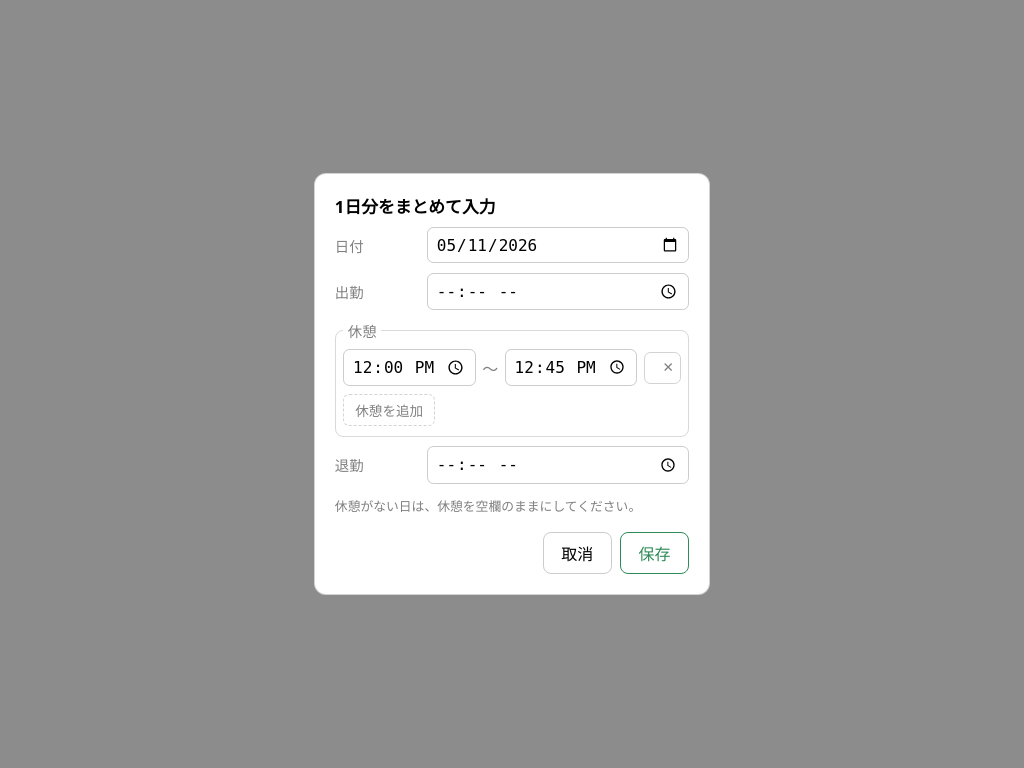
Test: DayEntryDialog › 最後の行を削除しても空の 1 行が残る
Click the button with class "remove-break": point(662, 368) x1=644 y1=352 x2=681 y2=384
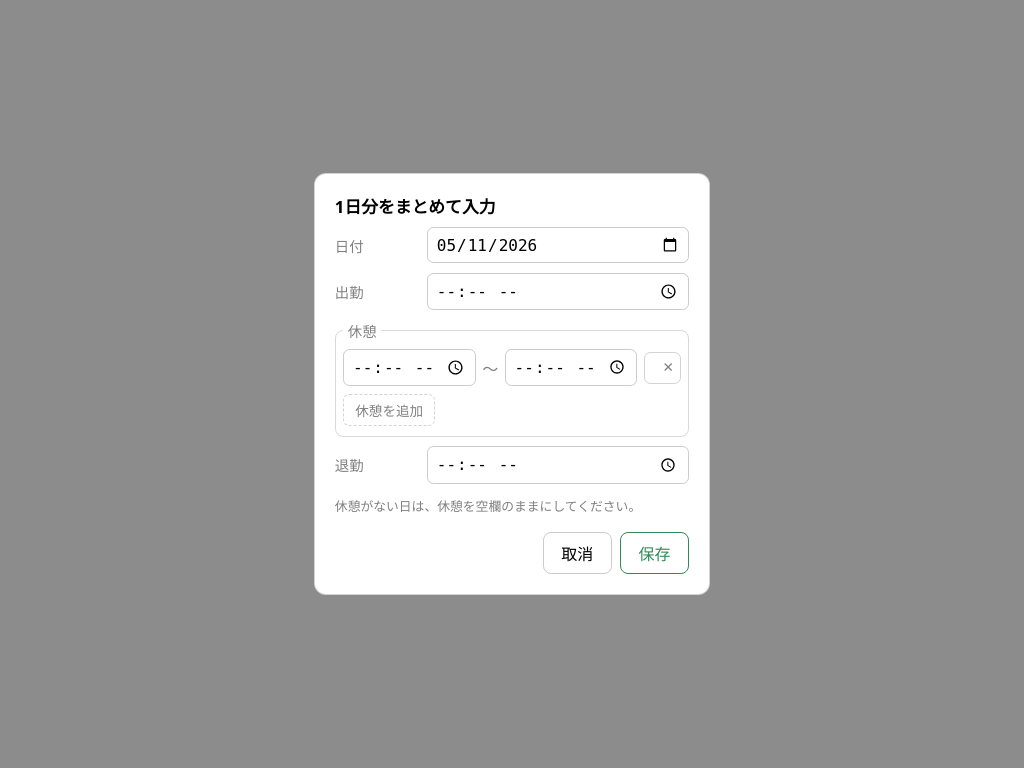
Expected: the number of elements with class "break-row" is 1, x1=343 y1=349 x2=681 y2=386
Result: the time field named "休憩1の開始" is empty at x1=343 y1=349 x2=476 y2=386
